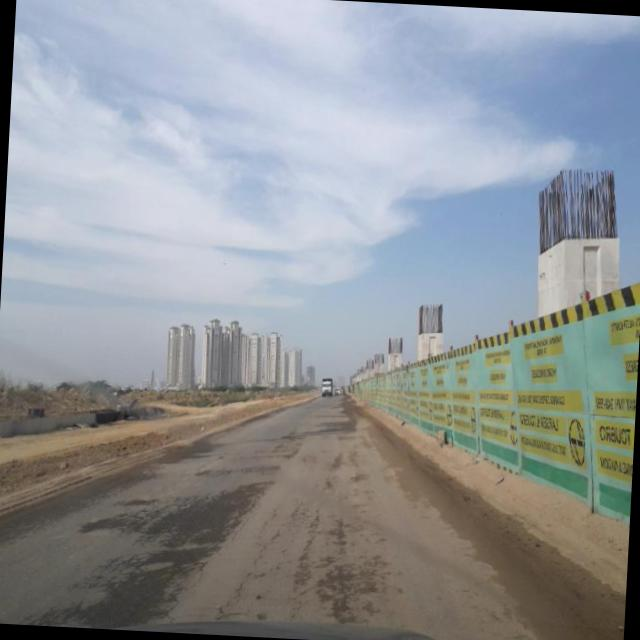crack: (32, 467, 278, 637), (220, 488, 306, 622), (320, 508, 361, 629), (282, 497, 323, 618)
